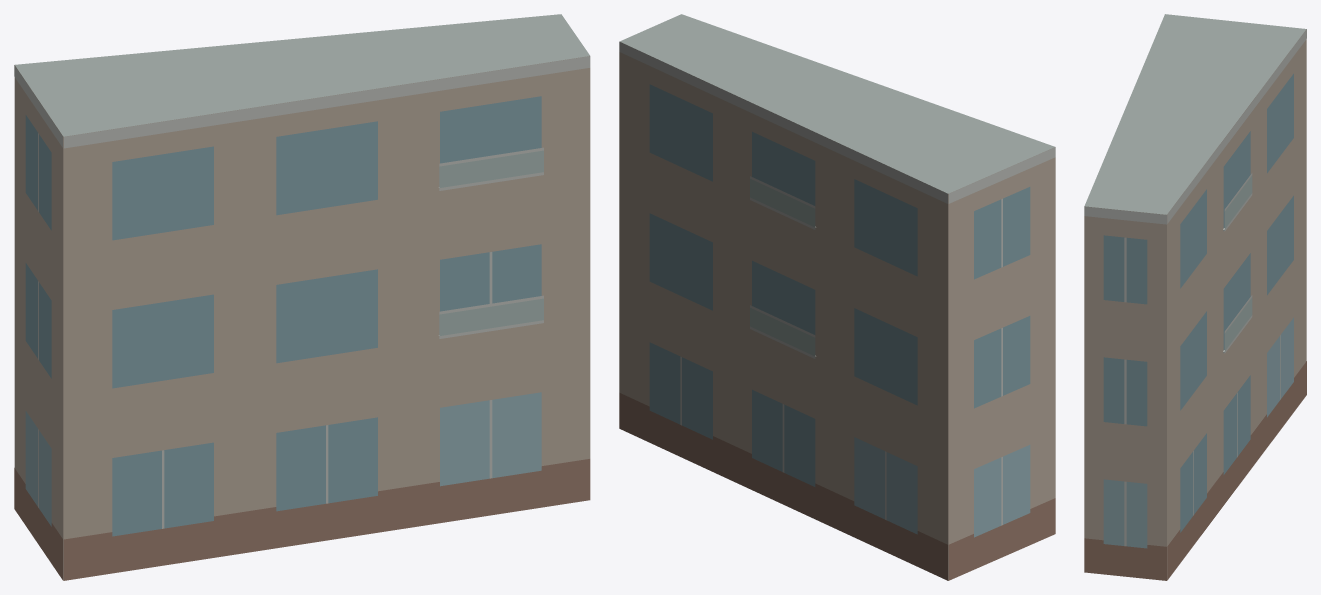
The model's file is survey-upis-32986632.glb.
3 views of the same model, side by side, from view 1: azimuth 30°, elevation 25°; view 2: azimuth 150°, elevation 25°; view 3: azimuth 270°, elevation 25° (orthographic). The views are drawn at different scales.
Visible parts, largest first — view 1: survey-upis-32986632.tmp; view 2: survey-upis-32986632.tmp; view 3: survey-upis-32986632.tmp.
Part boxes in pixels (bbox=[...]): survey-upis-32986632.tmp: bbox=[14, 14, 590, 580]; survey-upis-32986632.tmp: bbox=[619, 14, 1055, 580]; survey-upis-32986632.tmp: bbox=[1084, 14, 1306, 580].
Size of the model in its own units: 10.77 by 9.15 by 5.05.
